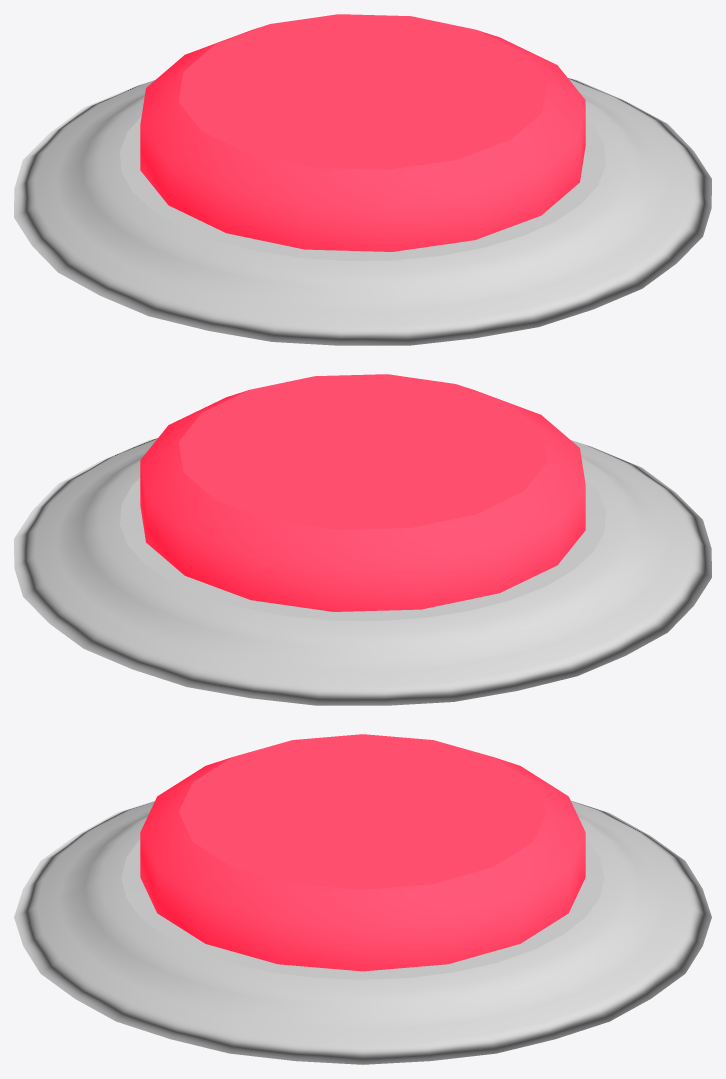
Rendered from Button-On.fbx.
The picture shows the model from 3 angles, top to bottom: view 1: azimuth 30°, elevation 25°; view 2: azimuth 150°, elevation 25°; view 3: azimuth 270°, elevation 25°; orthographic projection.
Parts seen in each view (by area): view 1: Cylinder, Cylinder.001; view 2: Cylinder, Cylinder.001; view 3: Cylinder, Cylinder.001.
Part boxes in pixels (x1=…): Cylinder: x1=14, y1=78, x2=711, y2=345; Cylinder.001: x1=140, y1=14, x2=585, y2=251; Cylinder: x1=14, y1=438, x2=711, y2=705; Cylinder.001: x1=140, y1=374, x2=585, y2=611; Cylinder: x1=14, y1=801, x2=711, y2=1064; Cylinder.001: x1=140, y1=734, x2=585, y2=971.
Bounding box in the file's own units: 204 × 39.13 × 204.
